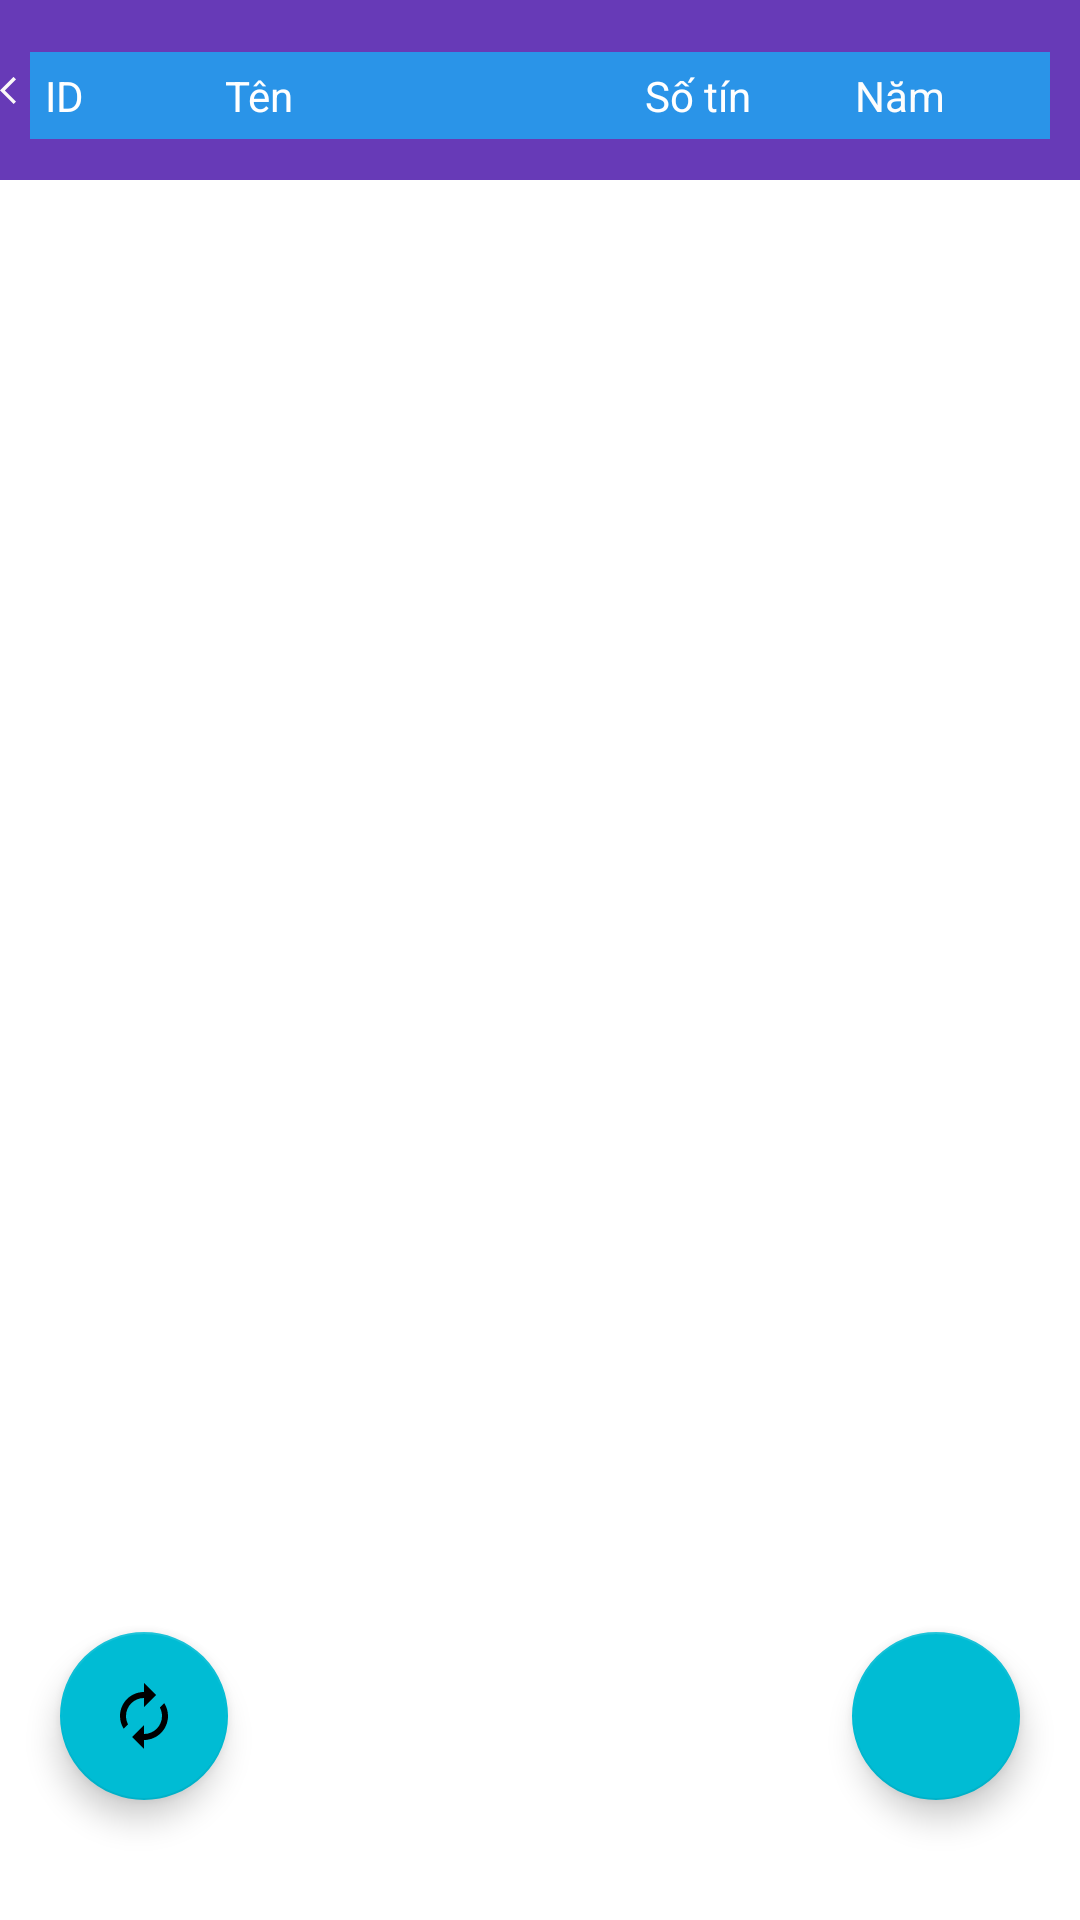

Named icons in this screenshot (1080px×1920px) and their bounding boxes, (x1, y1, x2, y2):
load: (60, 1632, 228, 1800)
